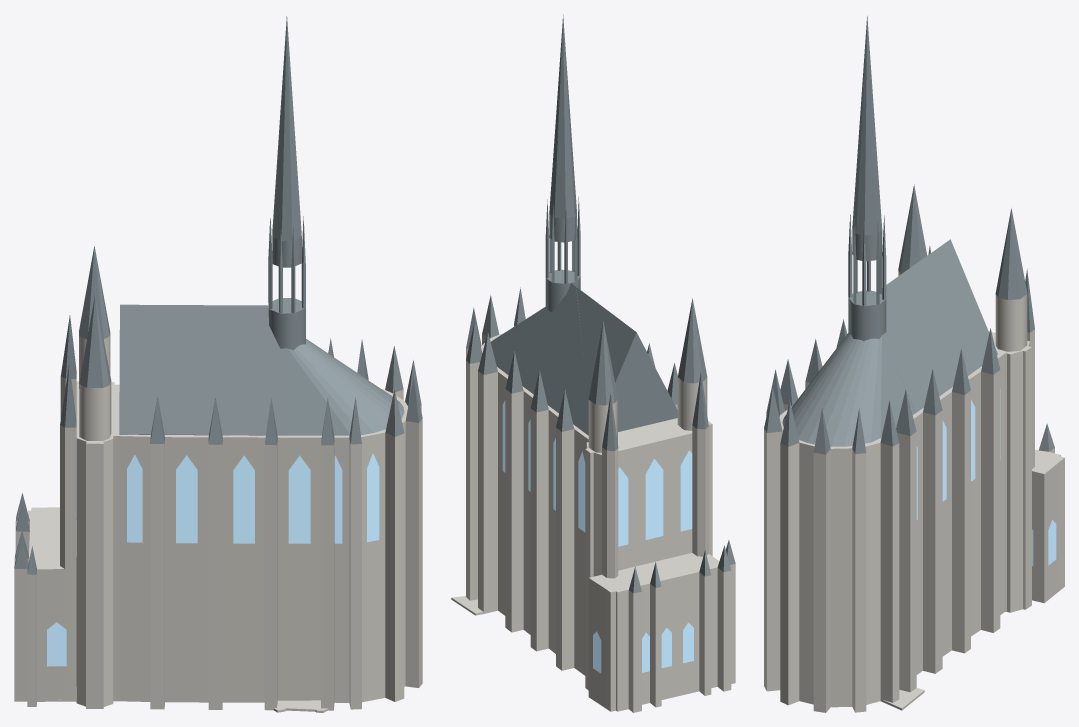
Rendered from detail.glb.
The picture shows the model from 3 angles, left to right: view 1: azimuth 30°, elevation 25°; view 2: azimuth 150°, elevation 25°; view 3: azimuth 270°, elevation 25°; orthographic projection. The views are drawn at different scales.
Parts seen in each view (by area): view 1: stone, roof, window; view 2: stone, roof, window; view 3: stone, roof, window.
Part boxes in pixels (x1,y1,x2,y2): stone: [14, 332, 422, 712]; roof: [14, 16, 422, 574]; window: [47, 437, 379, 666]; stone: [451, 325, 735, 712]; roof: [466, 14, 735, 593]; window: [502, 400, 693, 673]; stone: [764, 271, 1064, 712]; roof: [764, 16, 1054, 454]; window: [916, 389, 1056, 565].
Bounding box in the file's own units: 40.37 × 75 × 31.64.
